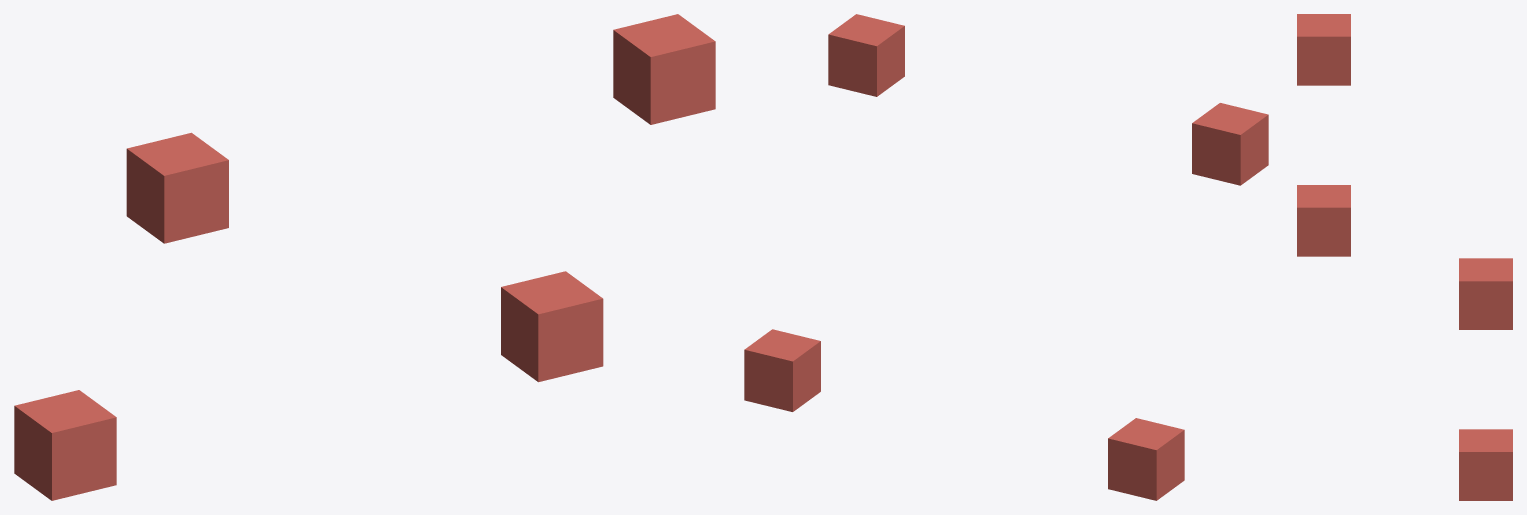
Rendered from container_corner_kit.glb.
3 renders of one model, left to right at view 1: azimuth 30°, elevation 25°; view 2: azimuth 150°, elevation 25°; view 3: azimuth 270°, elevation 25°, orthographic. The views are drawn at different scales.
Visible parts, largest first — view 1: corner1, corner4, corner2, corner3; view 2: corner1, corner4, corner2, corner3; view 3: corner1, corner2, corner3, corner4.
Part boxes in pixels (left/top/right/bottom): corner1: left=14, top=390, right=116, bottom=500; corner4: left=613, top=14, right=715, bottom=124; corner2: left=501, top=271, right=603, bottom=382; corner3: left=126, top=132, right=228, bottom=243; corner1: left=1108, top=418, right=1184, bottom=500; corner4: left=828, top=14, right=904, bottom=96; corner2: left=744, top=329, right=820, bottom=411; corner3: left=1192, top=103, right=1268, bottom=185; corner1: left=1459, top=258, right=1512, bottom=329; corner2: left=1459, top=429, right=1512, bottom=500; corner3: left=1297, top=14, right=1350, bottom=85; corner4: left=1297, top=185, right=1350, bottom=256.
Size of the model in its own units: 3.4 by 2.4 by 1.6.
